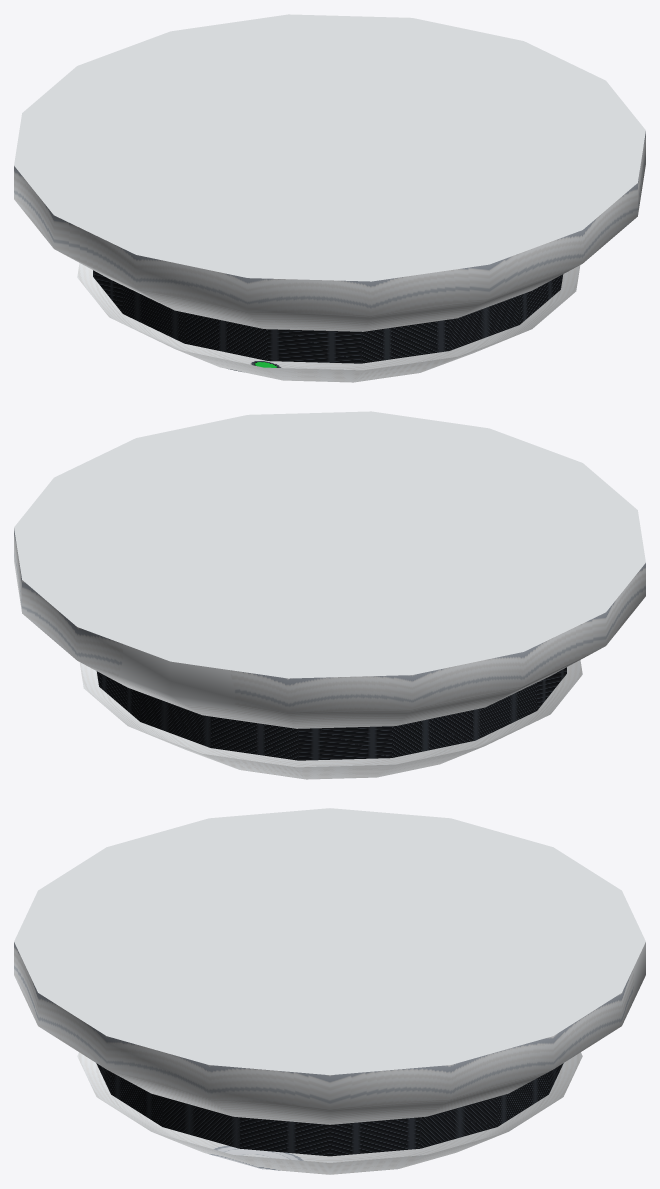
Rendered from SEC_Camera_Concealed_Smoke.fbx.
The picture shows the model from 3 angles, top to bottom: view 1: azimuth 30°, elevation 25°; view 2: azimuth 150°, elevation 25°; view 3: azimuth 270°, elevation 25°; orthographic projection.
Parts seen in each view (by area): view 1: Detector_Housing, Vent_Ring; view 2: Detector_Housing, Vent_Ring; view 3: Detector_Housing, Vent_Ring.
Part boxes in pixels (<box>): Detector_Housing: <box>14,14,645,382</box>; Vent_Ring: <box>93,270,563,363</box>; Detector_Housing: <box>14,411,645,779</box>; Vent_Ring: <box>96,667,566,760</box>; Detector_Housing: <box>14,808,645,1174</box>; Vent_Ring: <box>96,1063,563,1156</box>.
Size of the model in its own units: 12 by 4.25 by 12.
Materials: 2 (2 with a texture image).
